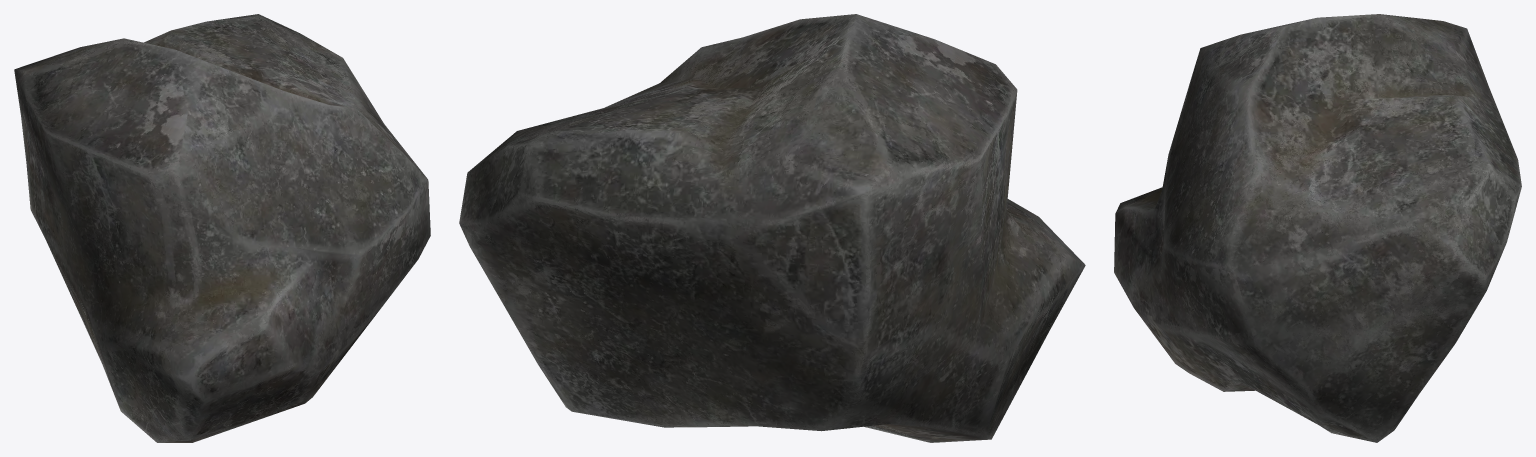
The model's file is stone-origin-transformed.glb.
3 views of the same model, side by side, from view 1: azimuth 30°, elevation 25°; view 2: azimuth 150°, elevation 25°; view 3: azimuth 270°, elevation 25° (orthographic). The views are drawn at different scales.
Parts seen in each view (by area): view 1: Rock_H_01_Rock_H_01_Material_0; view 2: Rock_H_01_Rock_H_01_Material_0; view 3: Rock_H_01_Rock_H_01_Material_0.
Part boxes in pixels (x1=…): Rock_H_01_Rock_H_01_Material_0: x1=14, y1=14, x2=430, y2=442; Rock_H_01_Rock_H_01_Material_0: x1=459, y1=14, x2=1085, y2=442; Rock_H_01_Rock_H_01_Material_0: x1=1114, y1=14, x2=1521, y2=442.
Size of the model in its own units: 179 by 171 by 180.
Materials: 1 (1 with a texture image).
